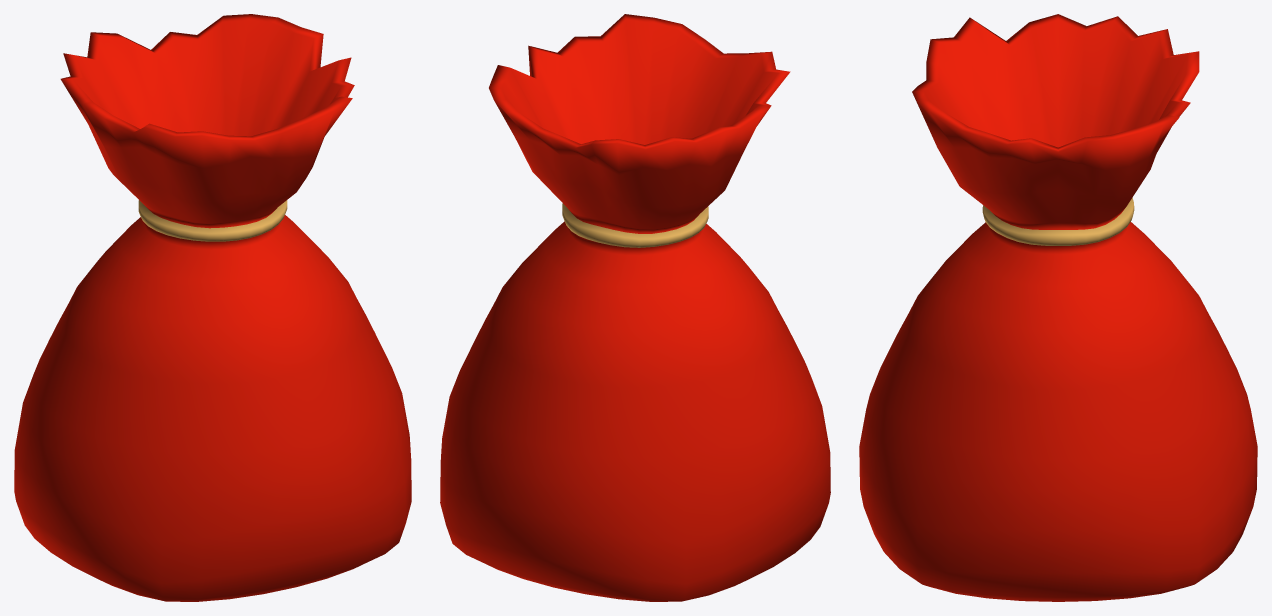
File: Pouch.fbx
The picture shows the model from 3 angles, left to right: view 1: azimuth 30°, elevation 25°; view 2: azimuth 150°, elevation 25°; view 3: azimuth 270°, elevation 25°; orthographic projection.
Parts seen in each view (by area): view 1: Cube; view 2: Cube; view 3: Cube.
Part boxes in pixels (x1,y1,x2,y2): Cube: (14,14,411,601); Cube: (440,14,830,601); Cube: (859,14,1257,601).
Size of the model in its own units: 190 by 243 by 190.
